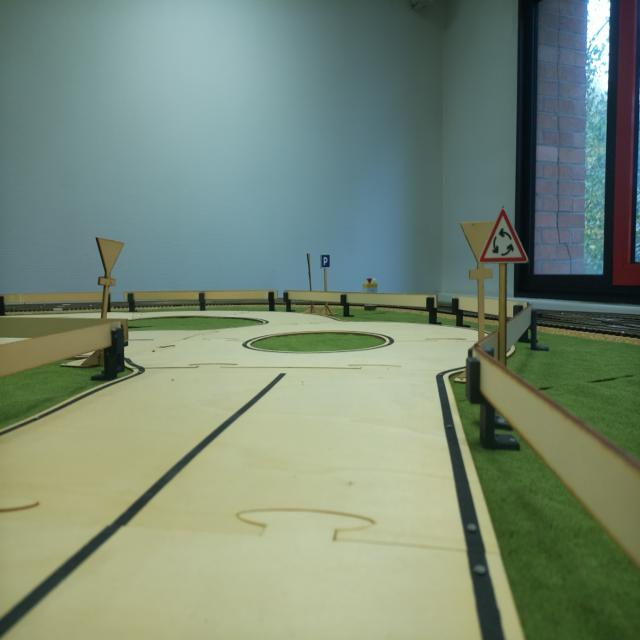panneau_ceder_passage: (480, 208, 528, 269)
